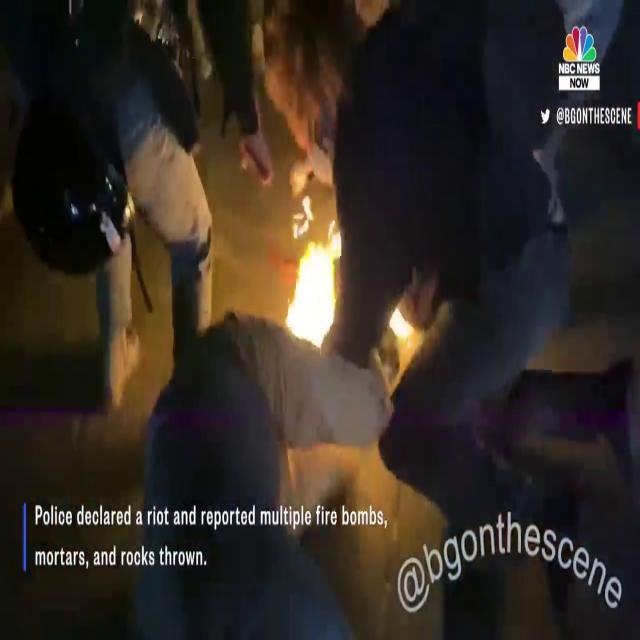Fire: (280, 196, 342, 350)
